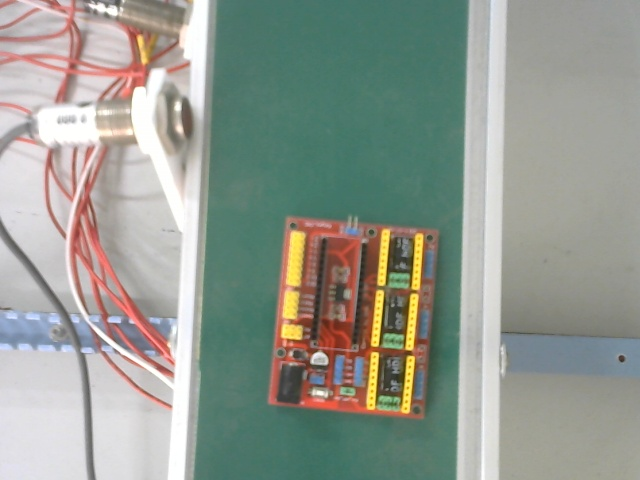IC: (326, 268, 352, 316)
capacitor: (376, 345, 409, 397), (379, 289, 409, 336), (386, 233, 418, 277), (306, 348, 333, 372)
connector: (279, 227, 306, 344), (274, 356, 303, 409)
